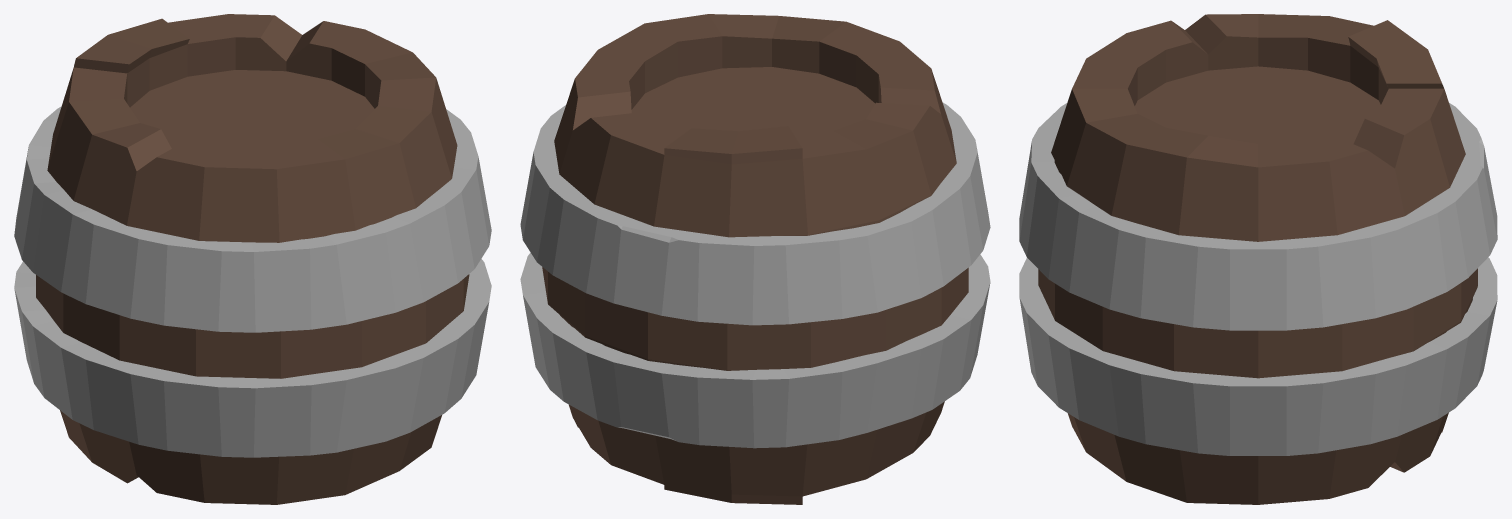
File: barrel.fbx
3 views of the same model, side by side, from view 1: azimuth 30°, elevation 25°; view 2: azimuth 150°, elevation 25°; view 3: azimuth 270°, elevation 25° (orthographic). The views are drawn at different scales.
Visible parts, largest first — view 1: Cylinder.001, Cylinder.002; view 2: Cylinder.001, Cylinder.002; view 3: Cylinder.001, Cylinder.002.
Boxes of the visible parts, bbox=[...] form: Cylinder.001: bbox=[36, 14, 469, 504]; Cylinder.002: bbox=[14, 106, 491, 457]; Cylinder.001: bbox=[542, 14, 968, 504]; Cylinder.002: bbox=[520, 102, 990, 448]; Cylinder.001: bbox=[1038, 14, 1477, 504]; Cylinder.002: bbox=[1019, 103, 1497, 455].
Size of the model in its own units: 256 by 216 by 257.
